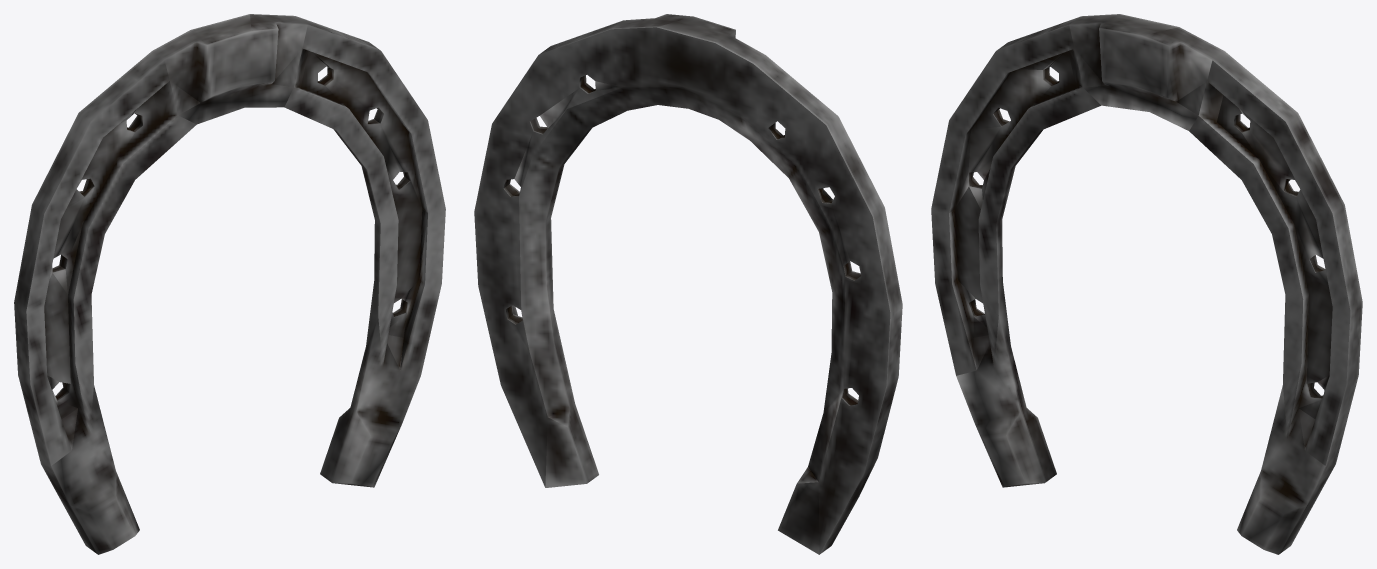
Rendered from ferradura4.glb.
3 views of the same model, side by side, from view 1: azimuth 30°, elevation 25°; view 2: azimuth 150°, elevation 25°; view 3: azimuth 330°, elevation 25° (orthographic).
Visible parts, largest first — view 1: Horse_Shoe_lambert2_0; view 2: Horse_Shoe_lambert2_0; view 3: Horse_Shoe_lambert2_0.
Boxes of the visible parts, left/top/right/bottom form: Horse_Shoe_lambert2_0: left=14, top=14, right=445, bottom=554; Horse_Shoe_lambert2_0: left=474, top=14, right=902, bottom=554; Horse_Shoe_lambert2_0: left=931, top=14, right=1362, bottom=554.
Bounding box in the file's own units: 49.48 × 55.54 × 4.03.
1 material, 1 textured.
